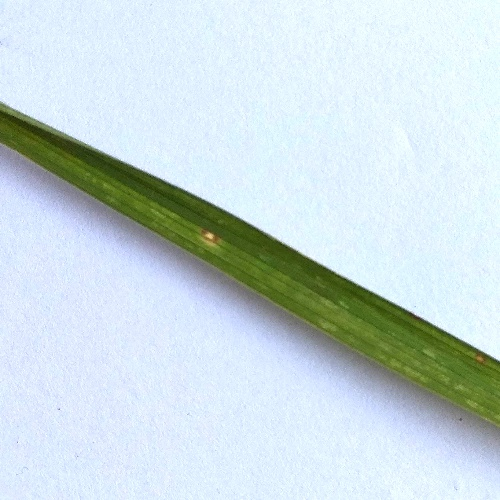Busuk Leher: (196, 222, 223, 251), (470, 347, 491, 369)
